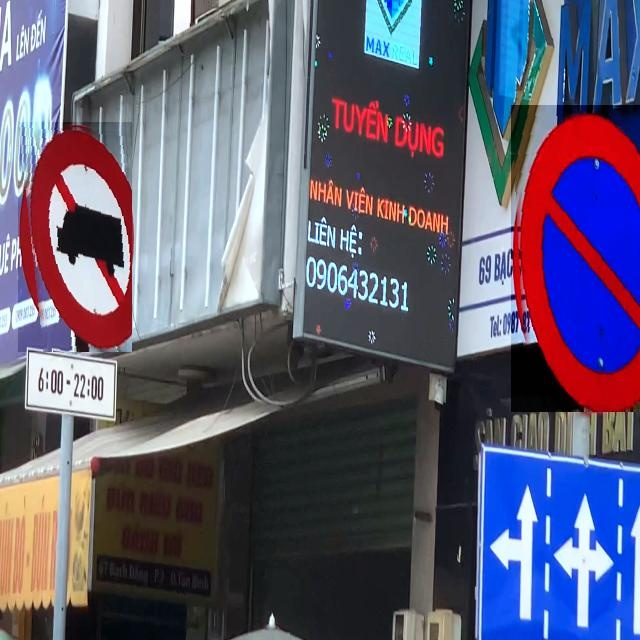bien_chi_dan: (511, 105, 640, 412), (18, 122, 132, 352)
